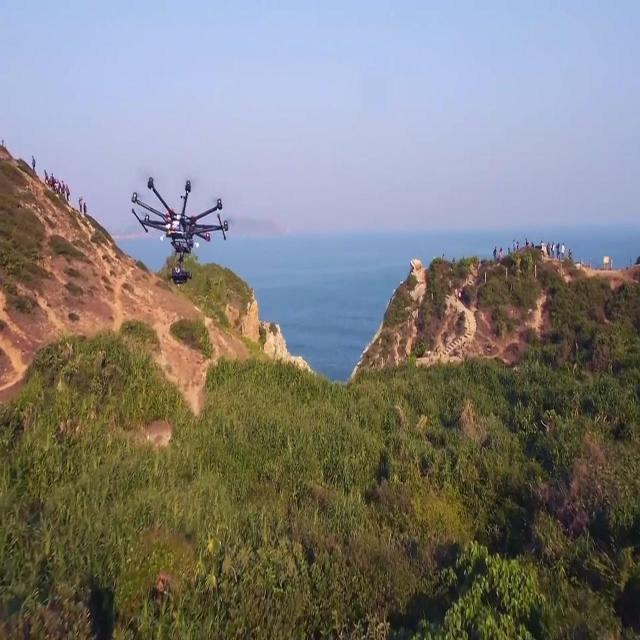UAV: (131, 176, 229, 284)
